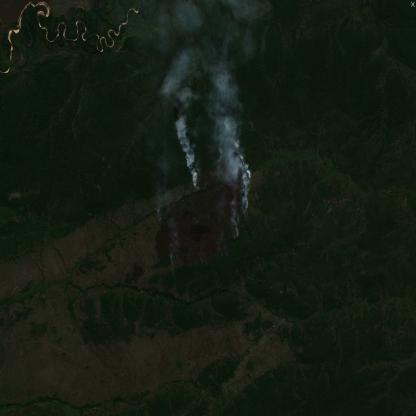fire: (192, 152, 252, 244), (152, 206, 168, 229), (168, 248, 182, 270)
